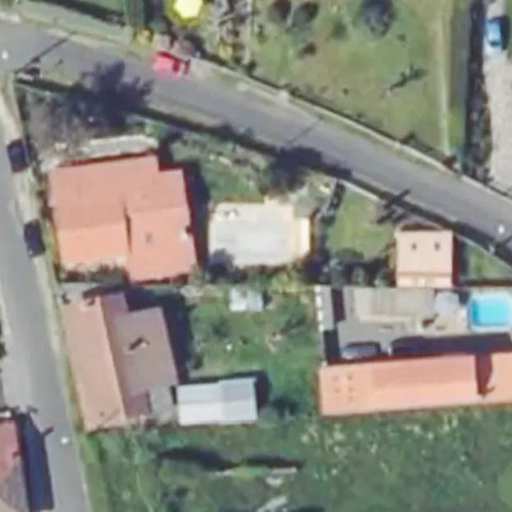pool: (470, 296, 512, 328)
